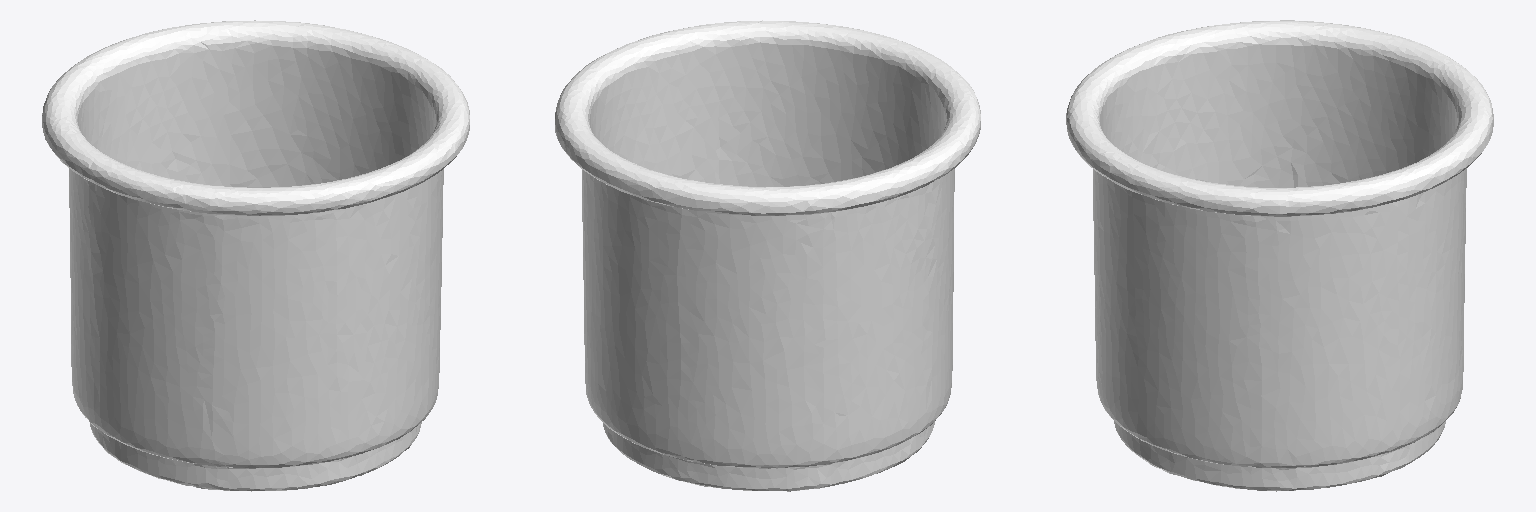
The robot description file, URDF, robot "004_sugar_box":
<robot name="004_sugar_box">
	<link name="_name">
		<visual>
			<origin xyz="0.07698415494577894 0.1707816316229452 -0.8602381422432335" rpy="0 0 0" />
			<geometry>
				<mesh filename="004_sugar_box/google_16k/textured.obj" scale="10 10 10" />
			</geometry>
			<material name="texture">
				<color rgba="1.0 1.0 1.0 1.0" />
			</material>
		</visual>
		<collision>
			<geometry>
				<mesh filename="004_sugar_box/google_16k/textured_vhacd.obj" scale="10 10 10" />
			</geometry>
		<origin xyz="0.07698415494577894 0.1707816316229452 -0.8602381422432335" rpy="0 0 0" /></collision>
		<inertial>
			<mass value="1.0" />
			<inertia ixx="1.0" ixy="0.0" ixz="0.0" iyy="1.0" iyz="0.0" izz="1.0" />
		</inertial>
	</link>
</robot>

--- What the picture shows (computed from the rendered views, not written in the file) ---
3 views of the same robot in one strip: view 1: azimuth 30°, elevation 25°; view 2: azimuth 150°, elevation 25°; view 3: azimuth 270°, elevation 25° (orthographic).
Model 004_sugar_box with 1 links and 0 joints (none), rooted at _name, posed all joints at 0.
Links seen in each view (by area): view 1: _name; view 2: _name; view 3: _name.
Link boxes in pixels (x1,y1,x2,y2): _name: (42, 20, 469, 491); _name: (555, 20, 980, 491); _name: (1066, 20, 1493, 491).
Bounding box of the posed robot: 0.915 × 0.9162 × 0.7506 m (x, y, z).
1 mesh visuals loaded from 1 distinct referenced files (1 OBJ).